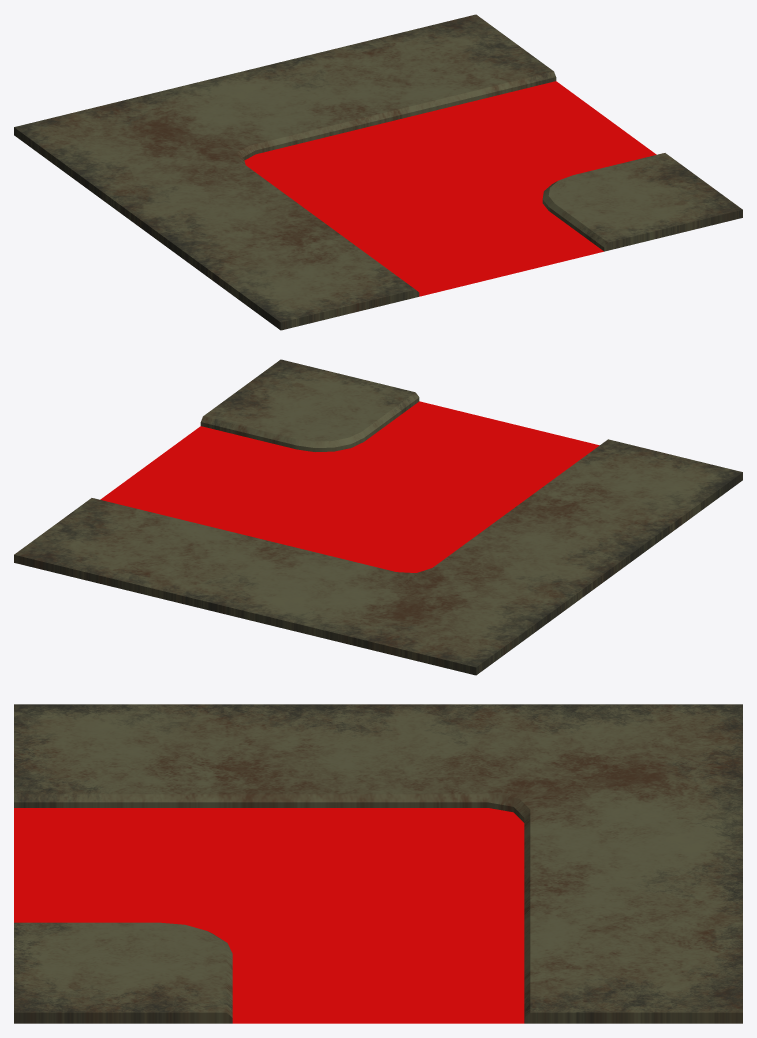
Rendered from L-tile.fbx.
3 renders of one model, top to bottom at view 1: azimuth 30°, elevation 25°; view 2: azimuth 150°, elevation 25°; view 3: azimuth 270°, elevation 25°, orthographic. The views are drawn at different scales.
Parts seen in each view (by area): view 1: L_tile; view 2: L_tile; view 3: L_tile.
Part boxes in pixels (box(x1,y1,x2,y2)): L_tile: box(14, 14, 742, 330); L_tile: box(14, 359, 742, 675); L_tile: box(14, 704, 742, 1023).
Size of the model in its own units: 1300 by 21.69 by 1300.
